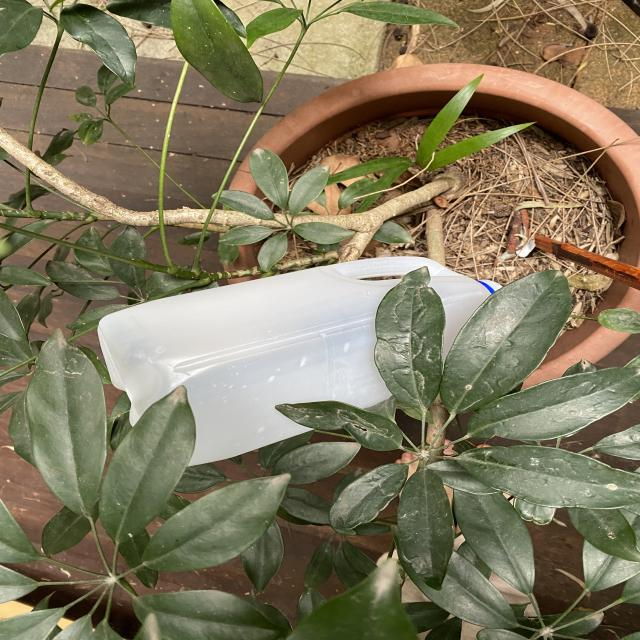bottle: (97, 253, 508, 472)
